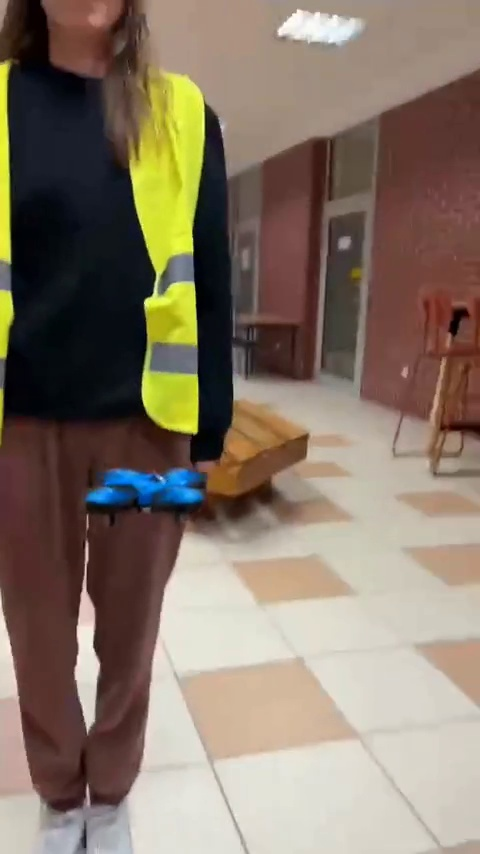drone: (87, 464, 201, 518)
vest: (0, 63, 239, 848)
